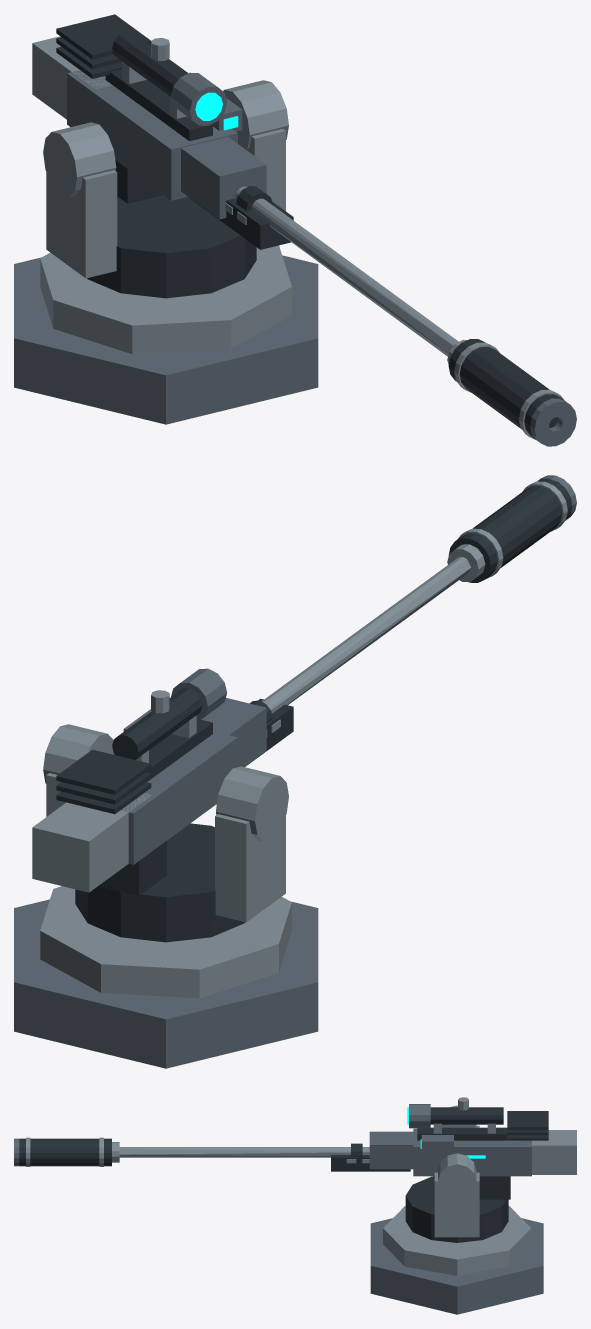
File: needle_t2_d0.glb
The picture shows the model from 3 angles, top to bottom: view 1: azimuth 30°, elevation 25°; view 2: azimuth 150°, elevation 25°; view 3: azimuth 270°, elevation 25°; orthographic projection. The views are drawn at different scales.
Parts seen in each view (by area): view 1: RECOIL_ARMOR_GEOMETRY, BASE_ARMOR_GEOMETRY, YAW_ARMOR_GEOMETRY, RECOIL_SIGNAL_GEOMETRY; view 2: RECOIL_ARMOR_GEOMETRY, BASE_ARMOR_GEOMETRY, YAW_ARMOR_GEOMETRY; view 3: RECOIL_ARMOR_GEOMETRY, BASE_ARMOR_GEOMETRY, YAW_ARMOR_GEOMETRY.
Boxes of the visible parts, <box> form: RECOIL_ARMOR_GEOMETRY: <box>32,14,576,446</box>; BASE_ARMOR_GEOMETRY: <box>14,245,318,424</box>; YAW_ARMOR_GEOMETRY: <box>46,129,285,298</box>; RECOIL_SIGNAL_GEOMETRY: <box>195,92,238,130</box>; RECOIL_ARMOR_GEOMETRY: <box>32,475,576,895</box>; BASE_ARMOR_GEOMETRY: <box>14,886,318,1068</box>; YAW_ARMOR_GEOMETRY: <box>46,773,285,942</box>; RECOIL_ARMOR_GEOMETRY: <box>14,1097,576,1199</box>; BASE_ARMOR_GEOMETRY: <box>370,1206,543,1314</box>; YAW_ARMOR_GEOMETRY: <box>405,1125,508,1242</box>.
Size of the model in its own units: 1.55 by 1.48 by 4.37.
